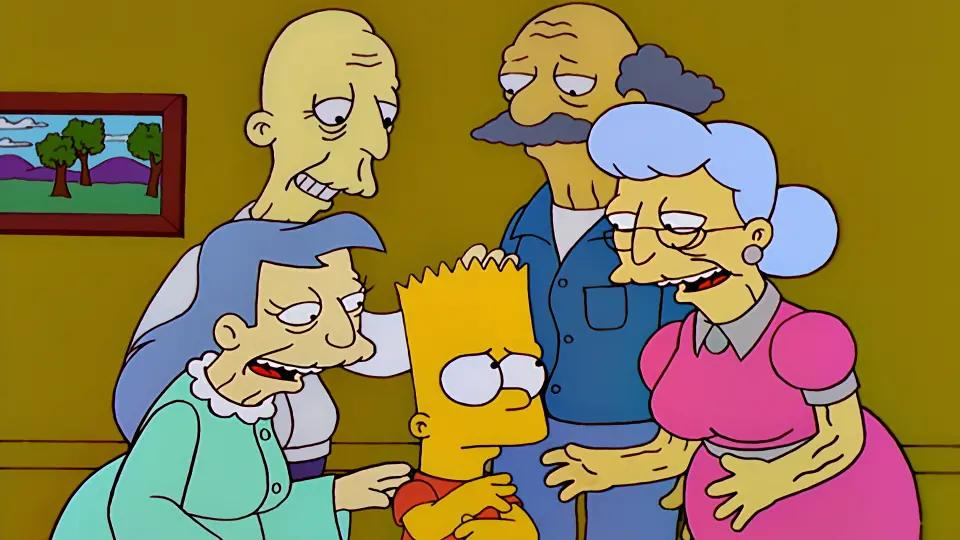Bart: (384, 246, 558, 538)
